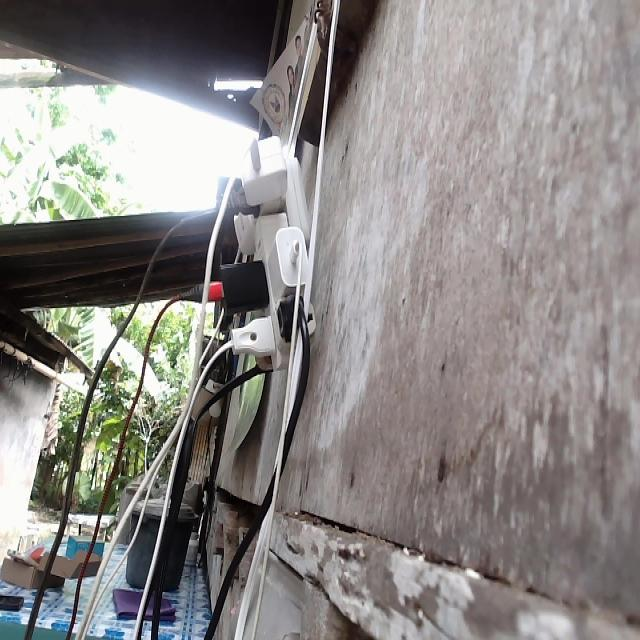-: (201, 131, 315, 369)
